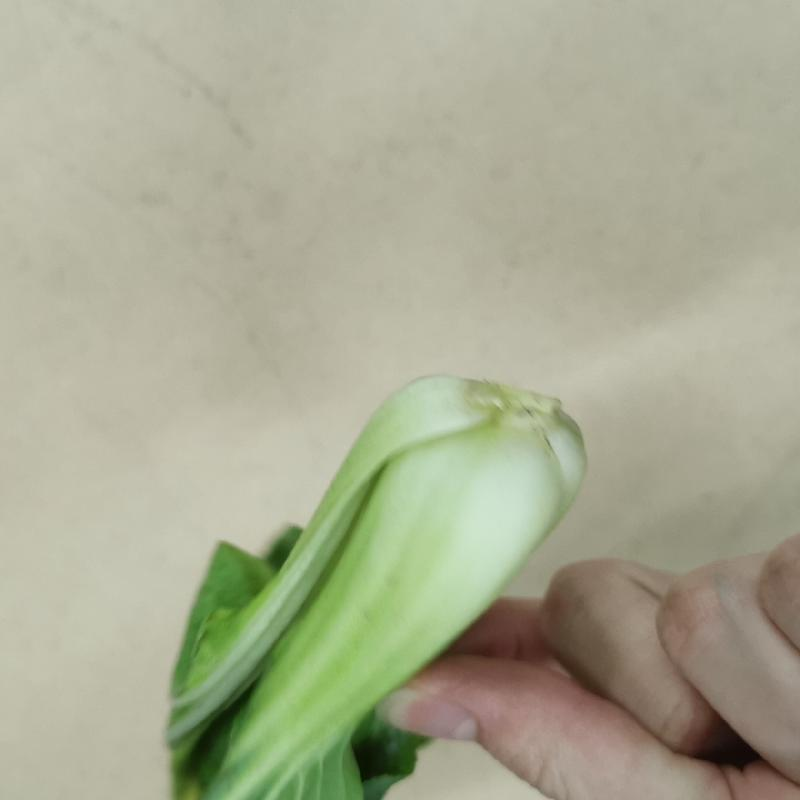green vegatable: (165, 365, 593, 800)
